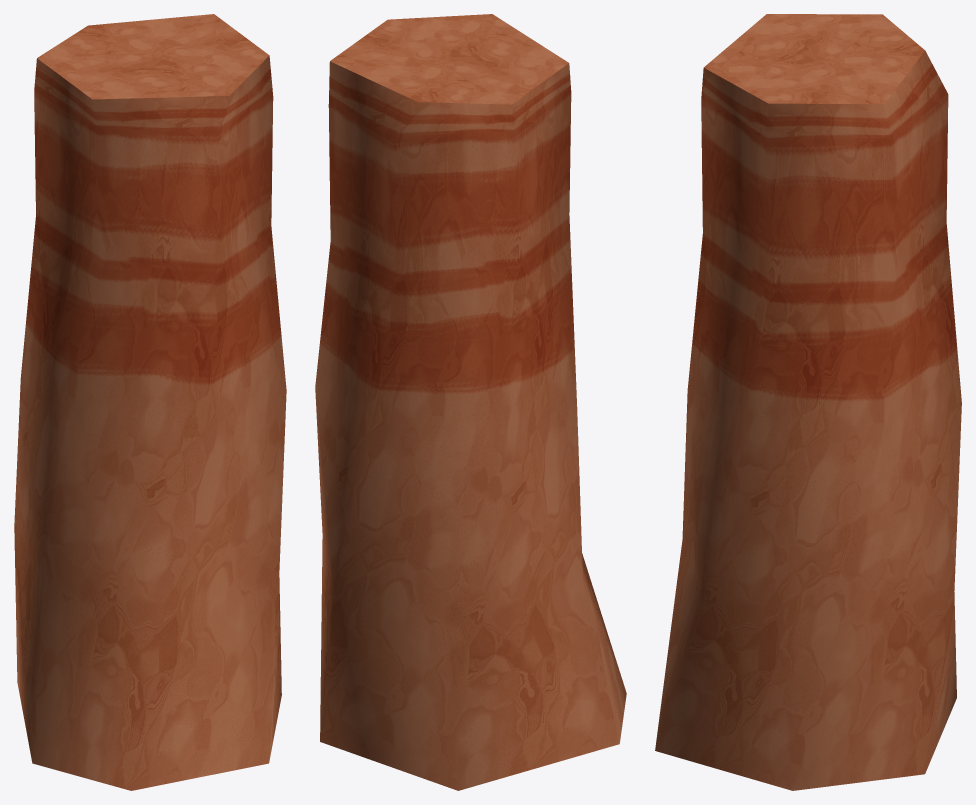
Rendered from Tallcliff02.fbx.
3 views of the same model, side by side, from view 1: azimuth 30°, elevation 25°; view 2: azimuth 150°, elevation 25°; view 3: azimuth 270°, elevation 25° (orthographic). The views are drawn at different scales.
Parts seen in each view (by area): view 1: Pillar; view 2: Pillar; view 3: Pillar.
Part boxes in pixels (box(x1,y1,x2,y2)): Pillar: box(14, 14, 286, 790); Pillar: box(315, 14, 626, 790); Pillar: box(655, 14, 961, 790).
Size of the model in its own units: 1.41 by 3.34 by 1.38.
